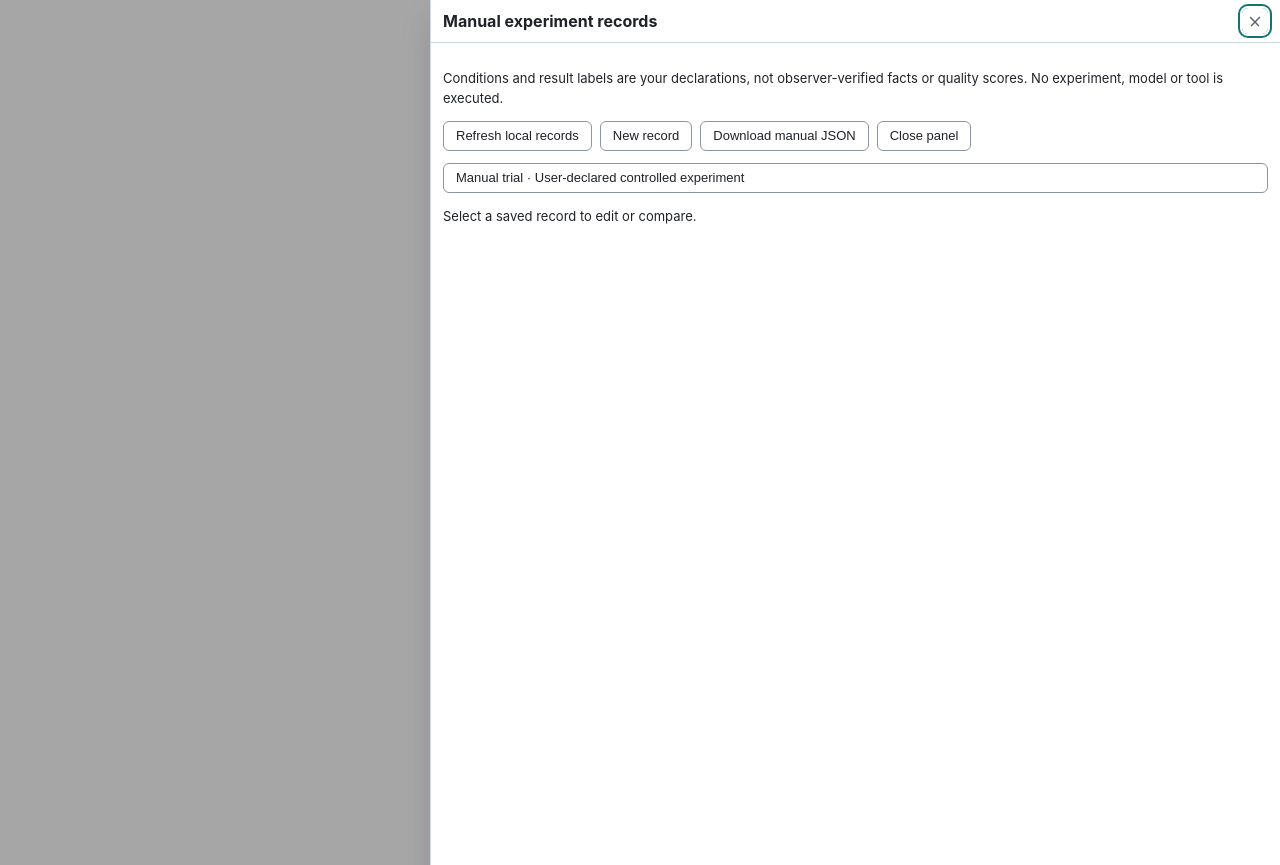
Test: manual experiment panel › retains an unavailable reference and manual result without enabling compare
This screenshot has width=1280, height=865.
Click the button "Manual trial · User-declared controlled experiment": (490, 178) [443,163,1268,193]
(page scrolled)
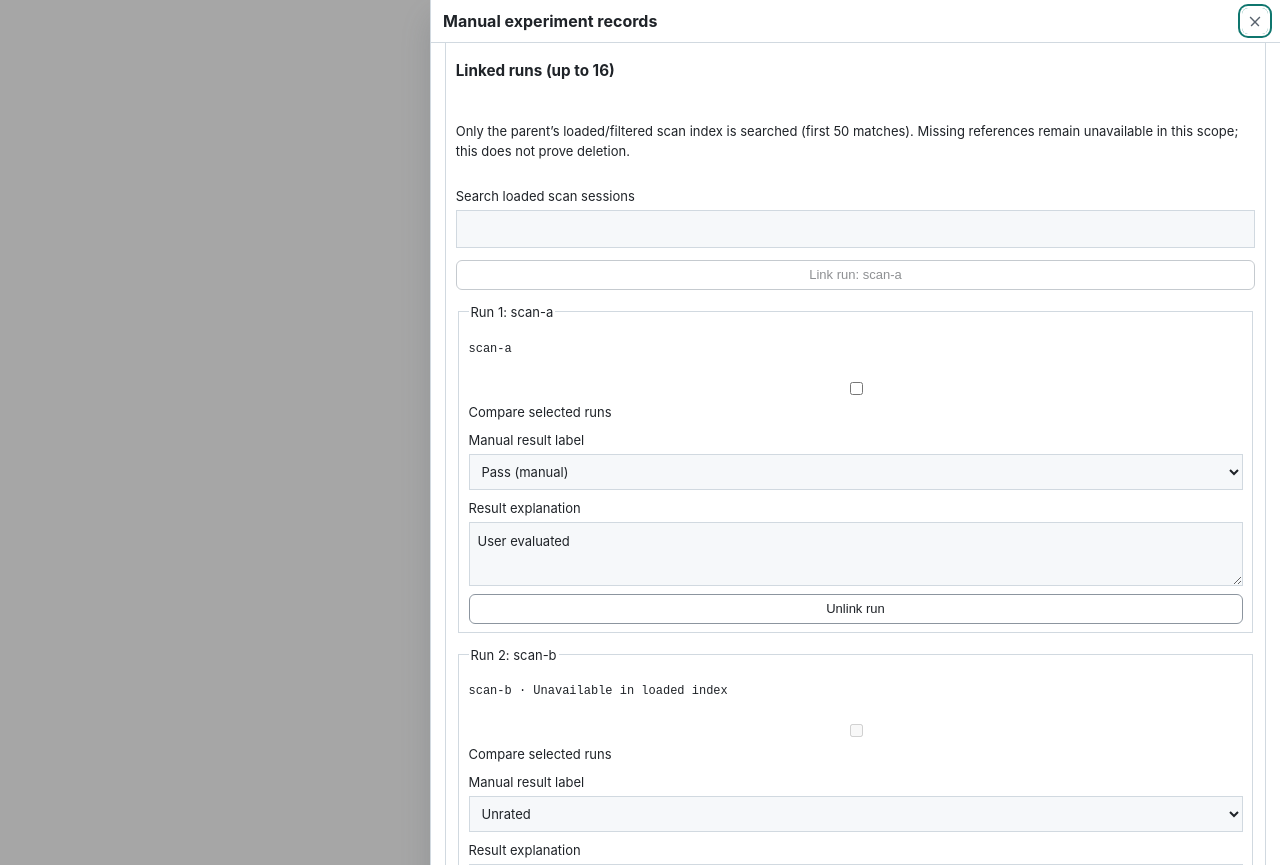
Check: the text "scan-b" is shown, box [513,647,556,663]
Check: the text "Unavailable in loaded index" is shown, box [533,684,728,698]
Check: the checkbox named "Compare selected runs: scan-b" is disabled, box [472,724,1240,737]
